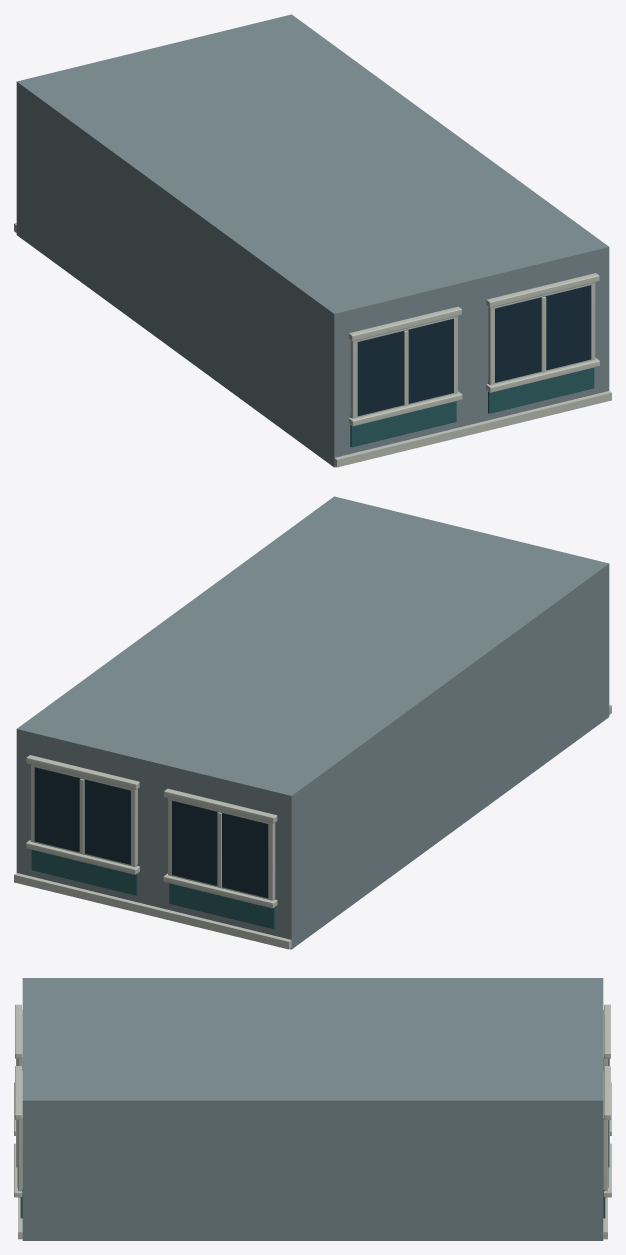
The model's file is d03_apartment_family_05.glb.
The picture shows the model from 3 angles, top to bottom: view 1: azimuth 30°, elevation 25°; view 2: azimuth 150°, elevation 25°; view 3: azimuth 270°, elevation 25°; orthographic projection. The views are drawn at different scales.
Parts seen in each view (by area): view 1: D03ApartmentFamily05_Mesh; view 2: D03ApartmentFamily05_Mesh; view 3: D03ApartmentFamily05_Mesh.
Part boxes in pixels (<box>): D03ApartmentFamily05_Mesh: <box>14,14,611,467</box>; D03ApartmentFamily05_Mesh: <box>14,496,611,949</box>; D03ApartmentFamily05_Mesh: <box>14,978,611,1240</box>.
Bounding box in the file's own units: 6 × 3.2 × 12.36.
